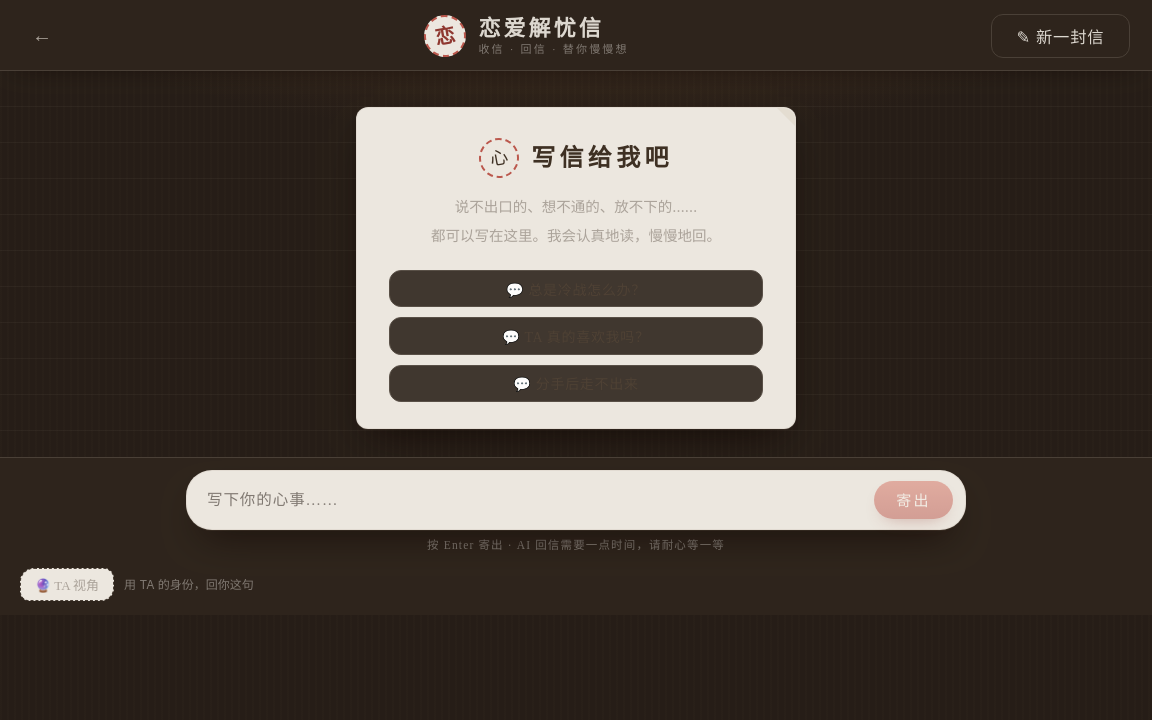
LoveChat：发送与占位（phase17 契约） › ⛔ @@ADVICE@@ 标记帧被剥离，且**不清空占位**（标记帧不代表正文开始）
Type "怎么回复" into the field with class "chat-input" at x=536, y=500, box [207,491,866,509]
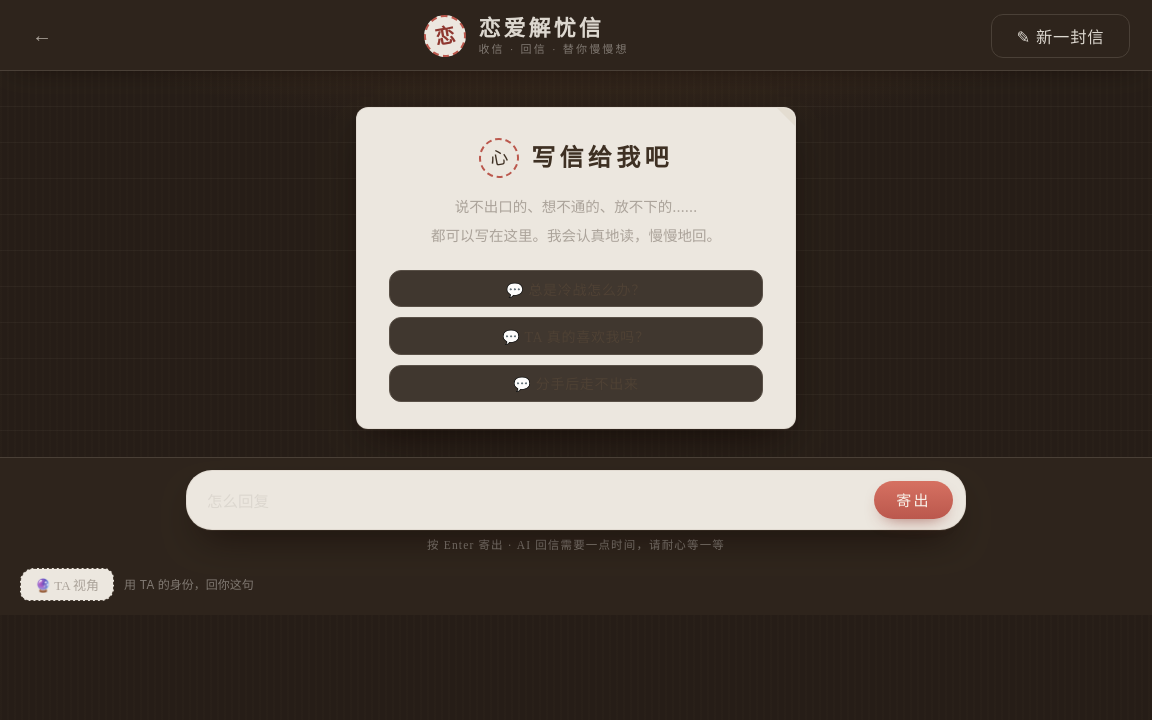
Click the button with class "send-btn" at x=913, y=500, box [874,481,953,519]
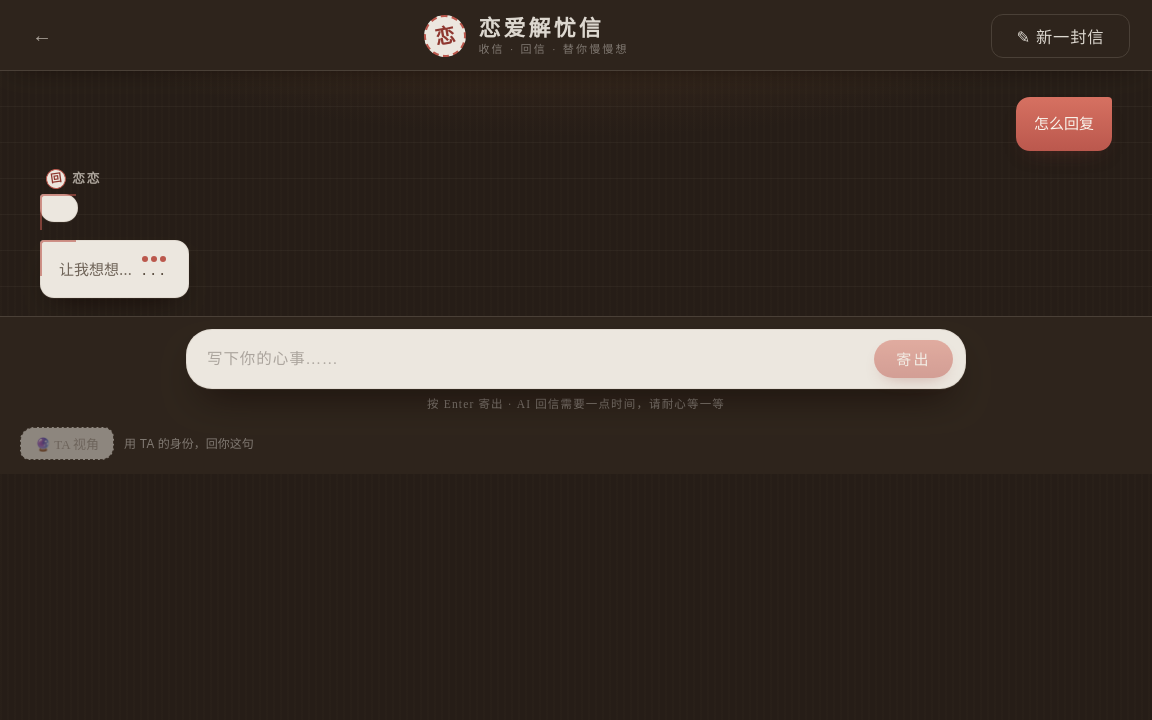
Check: the text "让我想想…" is shown, box [59,260,132,280]
